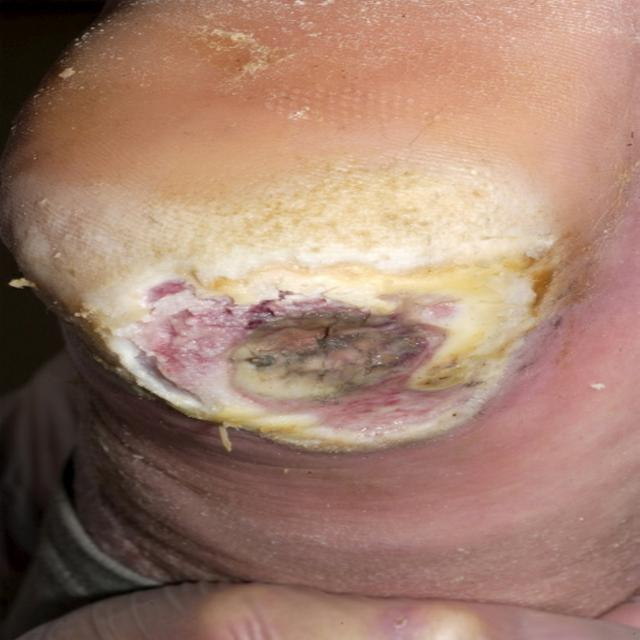wound: (87, 223, 570, 461)
